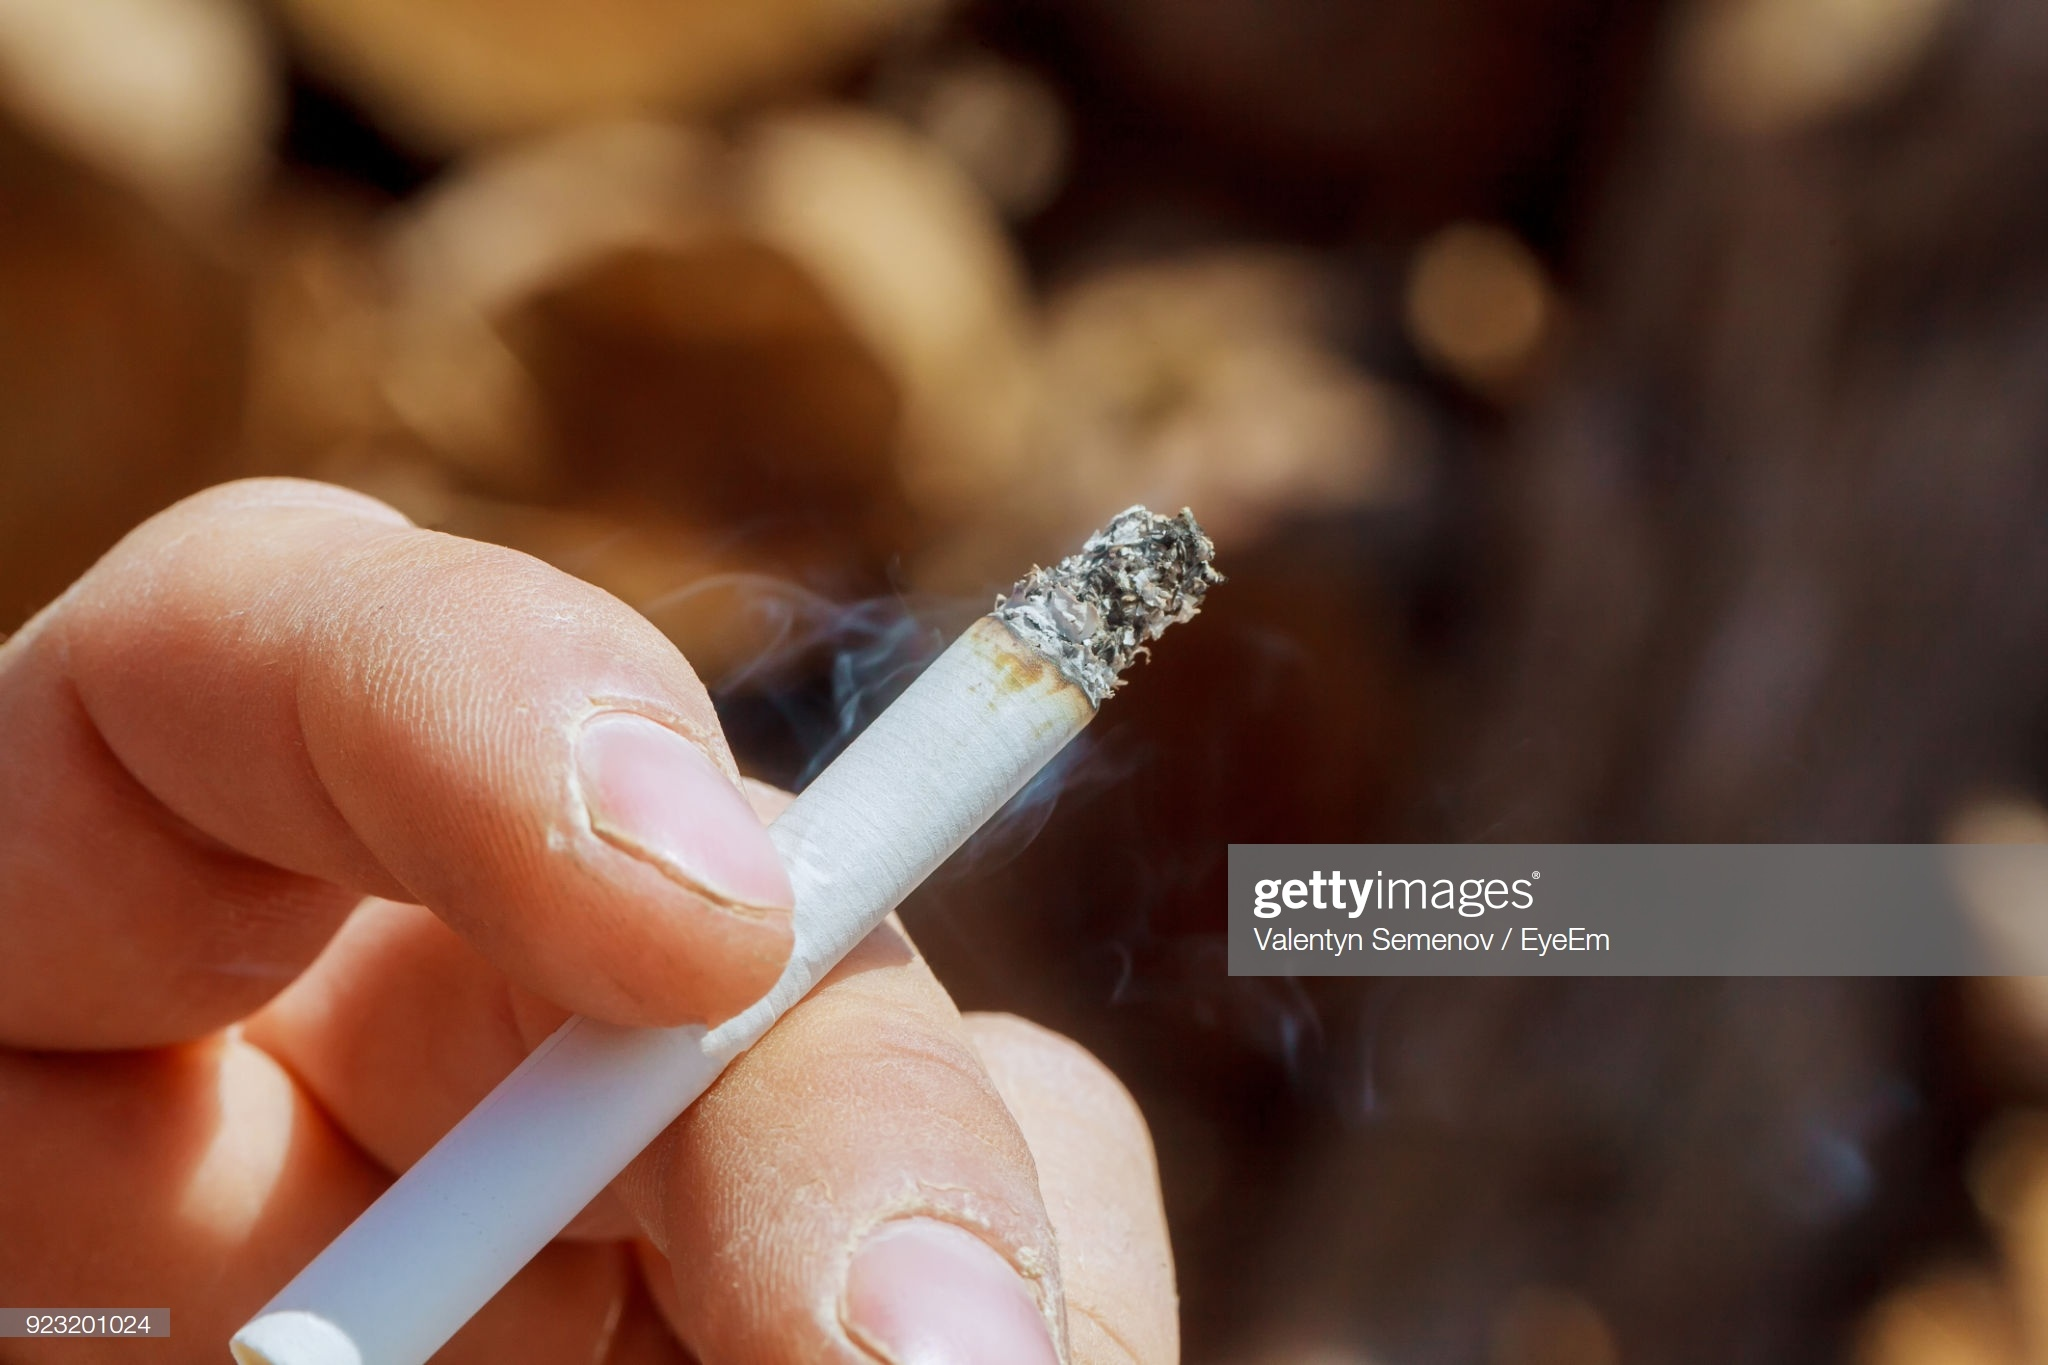sigaretta: (297, 562, 1252, 1365)
